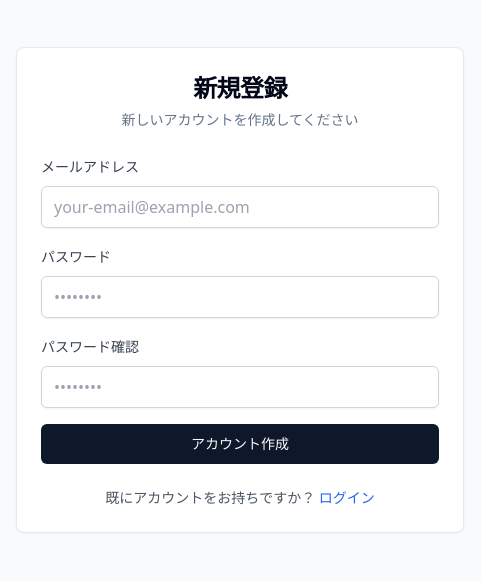
Test: SignUpPage › パスワード長さ不足エラー
In the field labelled "メールアドレス": (240, 207) [41, 186, 439, 228], type "test@example.com"
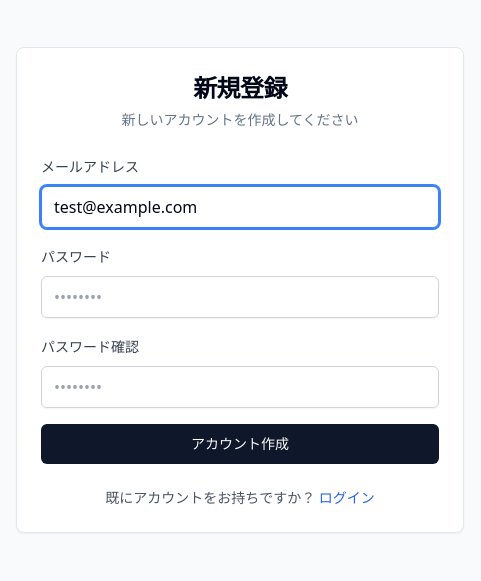
In the password field labelled "パスワード": (240, 297) [41, 276, 439, 318], type "12345"
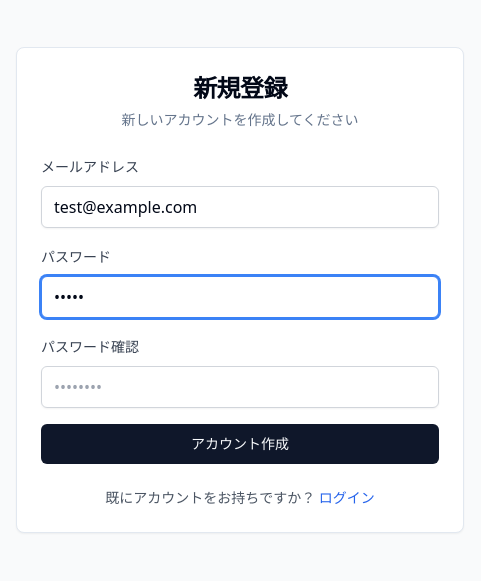
In the password field labelled "パスワード確認": (240, 387) [41, 366, 439, 408], type "12345"
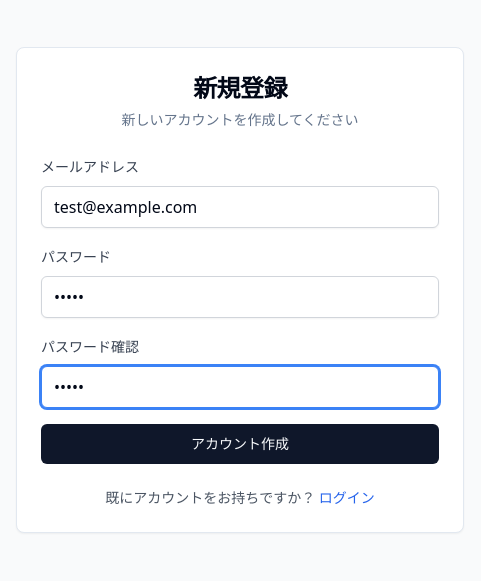
Click the button "アカウント作成": click(240, 444) [41, 424, 439, 464]
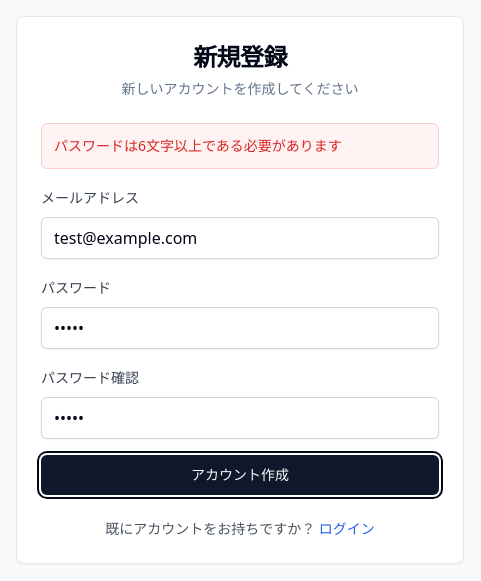
Expected: the text "パスワードは6文字以上である必要があります" is shown, [41, 123, 439, 169]
